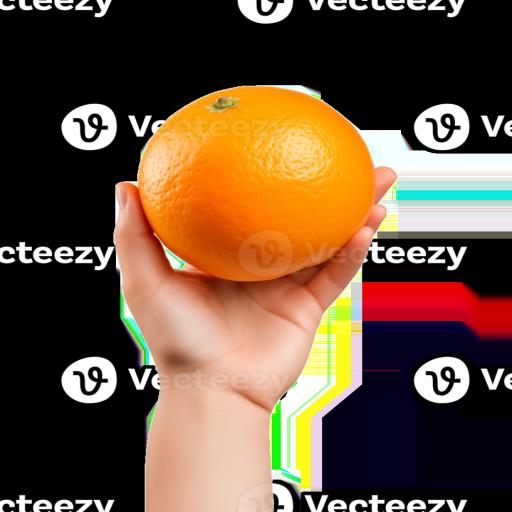orange: (138, 87, 374, 281)
